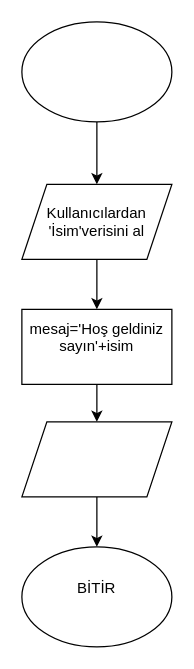
Some shapes in this 194 by 669 pixel diagram are drawn without their labels. The centre of each missing label's shape, as x and y in pixels:
"BAŞLA" goes at point 96,71.
"Ekrana 'mesaj' değişkenini yazdır" goes at point 96,459.
